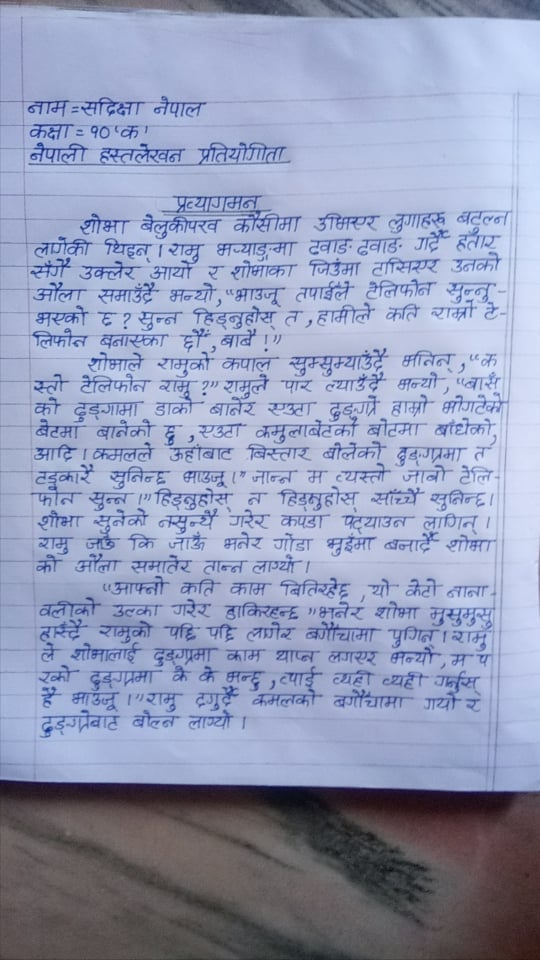text: (288, 348, 386, 376), (255, 421, 361, 444), (38, 709, 120, 738), (139, 212, 223, 240), (194, 140, 287, 165), (278, 486, 361, 512), (191, 304, 275, 329), (213, 240, 299, 262), (169, 192, 263, 212), (329, 688, 406, 712), (363, 277, 436, 302), (304, 620, 381, 643), (98, 145, 188, 164), (154, 487, 231, 509), (224, 600, 301, 622), (370, 255, 442, 278), (280, 576, 350, 599), (88, 667, 155, 691), (232, 213, 305, 235), (157, 510, 221, 535), (92, 508, 151, 535), (79, 373, 150, 395), (394, 445, 465, 467), (428, 604, 493, 628), (339, 512, 413, 533), (82, 96, 149, 119), (96, 282, 160, 306), (250, 687, 322, 708), (33, 463, 95, 487), (152, 94, 209, 120), (312, 212, 382, 233), (72, 401, 142, 422), (316, 302, 377, 326), (230, 260, 295, 282), (28, 141, 90, 164), (433, 415, 492, 439), (441, 394, 505, 416), (151, 646, 218, 667), (101, 237, 157, 262), (69, 643, 139, 663), (79, 260, 142, 282), (292, 280, 352, 303), (106, 465, 166, 488), (328, 395, 381, 421), (456, 208, 511, 233), (111, 574, 168, 598), (38, 596, 100, 618), (245, 442, 313, 462), (430, 489, 489, 512), (321, 440, 385, 461), (33, 236, 94, 258), (32, 281, 87, 305), (128, 554, 194, 574), (91, 441, 153, 462), (98, 332, 170, 350), (33, 305, 89, 328), (98, 620, 154, 643), (387, 211, 448, 232), (28, 328, 92, 348), (422, 511, 480, 533), (450, 251, 503, 275), (442, 280, 495, 304), (86, 352, 143, 374), (167, 445, 233, 464), (432, 669, 482, 694), (96, 418, 155, 439), (388, 624, 437, 649), (223, 373, 271, 398), (325, 532, 375, 556), (306, 258, 363, 279), (78, 212, 130, 235), (334, 462, 388, 484), (195, 686, 240, 712), (324, 373, 382, 393), (156, 356, 211, 377), (400, 350, 455, 371), (36, 509, 84, 533), (33, 418, 82, 441), (166, 283, 217, 305), (430, 298, 478, 321), (371, 487, 426, 507), (233, 286, 285, 307), (383, 534, 440, 553), (326, 647, 380, 667), (245, 621, 294, 643), (445, 533, 496, 554), (38, 619, 86, 641), (187, 709, 235, 731), (137, 309, 184, 331), (74, 553, 121, 575), (401, 464, 450, 485), (71, 690, 120, 711), (390, 394, 431, 419), (209, 397, 260, 417), (364, 421, 424, 438), (34, 486, 80, 508), (354, 236, 402, 257), (374, 601, 422, 622), (149, 260, 194, 282), (382, 669, 427, 691), (396, 371, 443, 392), (390, 646, 437, 667), (305, 237, 354, 257), (251, 555, 300, 575), (220, 355, 277, 372), (87, 488, 131, 510), (278, 512, 331, 530), (25, 98, 70, 119), (454, 231, 501, 251), (179, 468, 228, 487), (316, 601, 365, 620), (29, 258, 73, 279), (227, 510, 271, 531), (222, 530, 266, 551), (272, 532, 314, 554), (168, 531, 208, 554), (278, 666, 318, 689), (110, 600, 161, 618), (26, 121, 74, 140), (170, 598, 213, 619), (168, 240, 204, 265), (156, 377, 195, 400), (265, 400, 314, 418), (130, 712, 179, 730), (331, 668, 375, 688), (250, 467, 296, 486), (451, 628, 489, 651), (411, 230, 447, 254), (196, 422, 244, 440), (33, 443, 76, 463), (225, 668, 264, 690), (31, 373, 68, 396), (217, 329, 259, 349), (152, 398, 196, 417), (271, 647, 317, 665), (421, 692, 462, 712), (403, 577, 442, 598), (200, 558, 245, 576), (227, 580, 271, 598), (146, 689, 179, 713), (179, 578, 218, 598), (465, 371, 501, 392), (165, 621, 199, 643), (224, 646, 268, 663), (206, 621, 239, 643), (458, 465, 494, 485), (35, 535, 71, 554), (39, 666, 75, 685), (385, 303, 419, 323), (83, 534, 119, 552), (446, 584, 489, 599), (34, 554, 63, 576), (180, 329, 206, 353), (127, 531, 157, 551), (280, 377, 314, 394), (32, 397, 60, 417), (368, 578, 395, 598), (160, 422, 182, 446), (39, 685, 59, 708), (88, 123, 113, 141), (170, 663, 190, 685), (279, 309, 304, 326), (119, 123, 142, 141), (95, 310, 118, 328), (196, 665, 217, 684), (39, 642, 57, 663), (204, 264, 226, 281), (305, 467, 327, 484), (245, 490, 266, 507), (449, 652, 470, 669), (470, 445, 490, 462), (464, 697, 481, 715), (480, 353, 500, 368)
